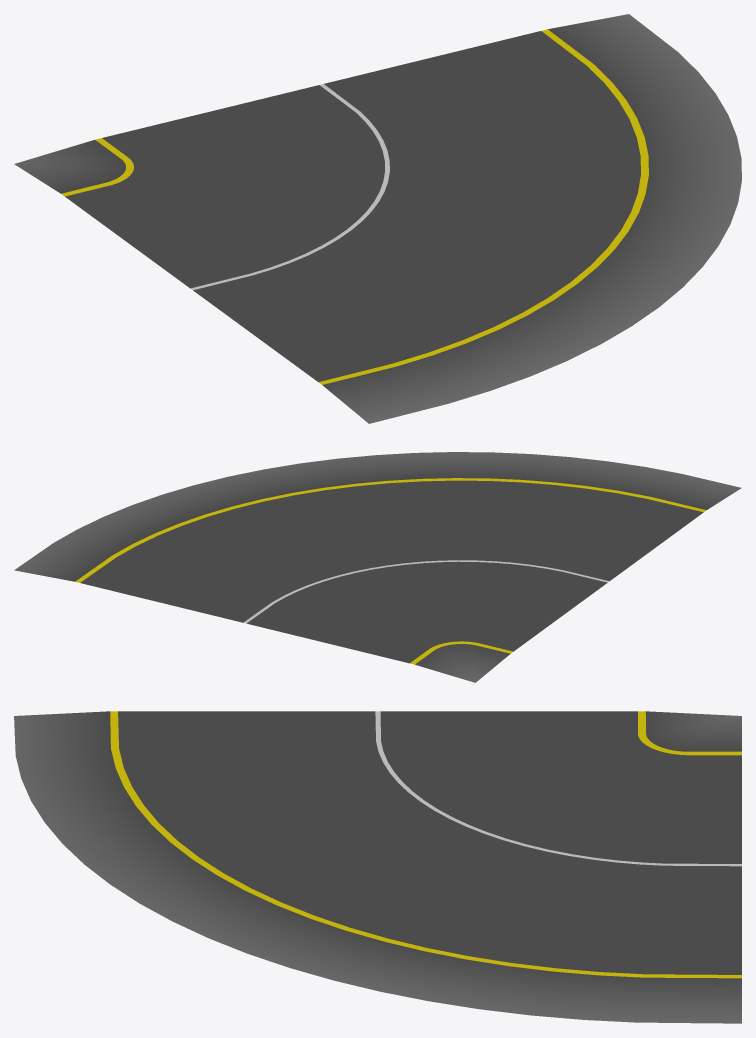
The model's file is roadangle90_1_ex.fbx.
3 views of the same model, one above another, from view 1: azimuth 30°, elevation 25°; view 2: azimuth 150°, elevation 25°; view 3: azimuth 270°, elevation 25° (orthographic). The views are drawn at different scales.
Visible parts, largest first — view 1: roadangle90_1_ex; view 2: roadangle90_1_ex; view 3: roadangle90_1_ex.
Part boxes in pixels (x1,y1,x2,y2): roadangle90_1_ex: (14, 14, 741, 423); roadangle90_1_ex: (14, 452, 741, 682); roadangle90_1_ex: (14, 711, 741, 1023).
Bounding box in the file's own units: 14 × 14 × 0.1.
